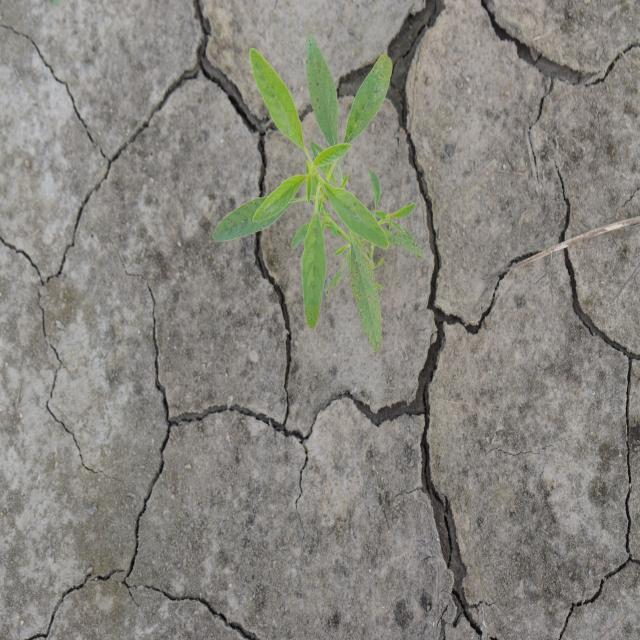Waterhemp: (212, 29, 426, 355)
